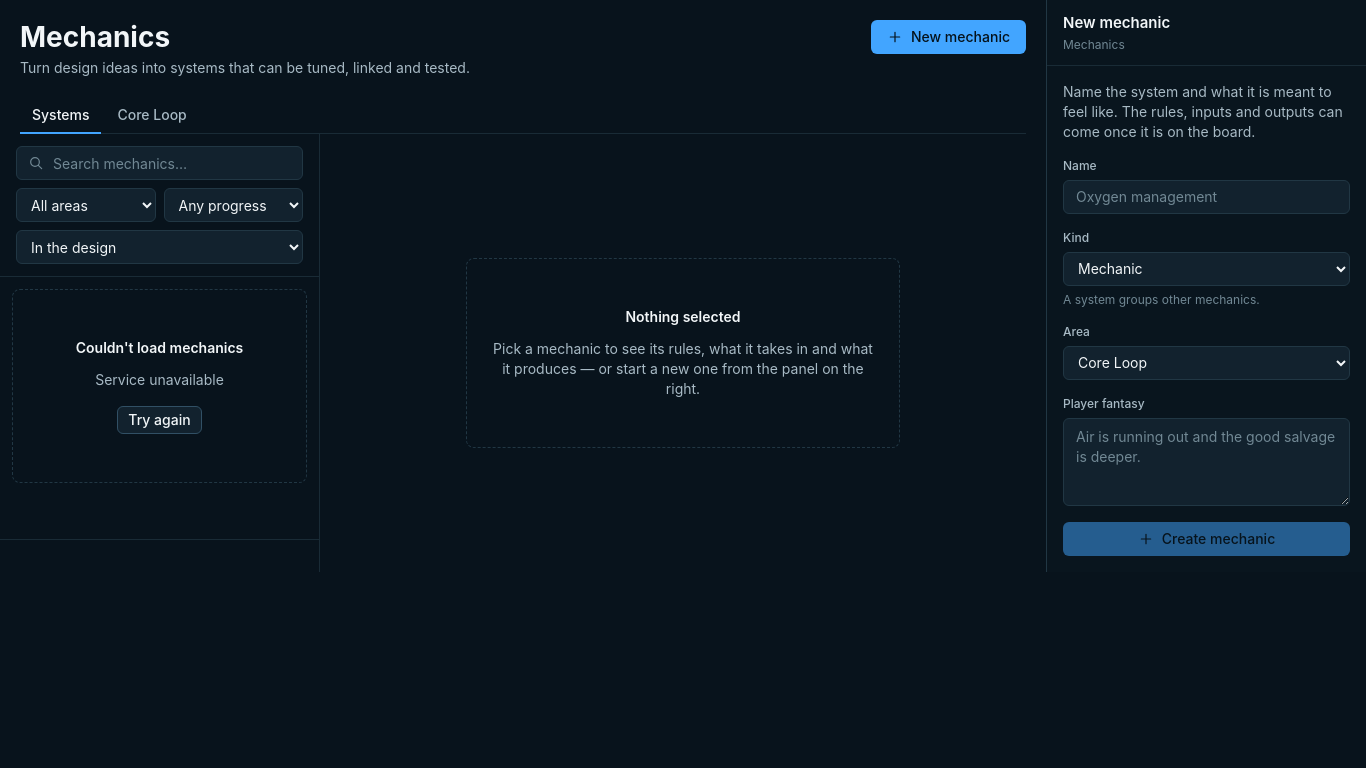
Test: Mechanics workspace › says what went wrong and offers a retry when the listing fails
Expected: the text "Couldn't load mechanics" is shown, [76, 338, 243, 358]
Expected: the text "Service unavailable" is shown, [95, 370, 224, 390]
Step 1. Click the button "Try again" → (159, 420), box [117, 406, 202, 434]
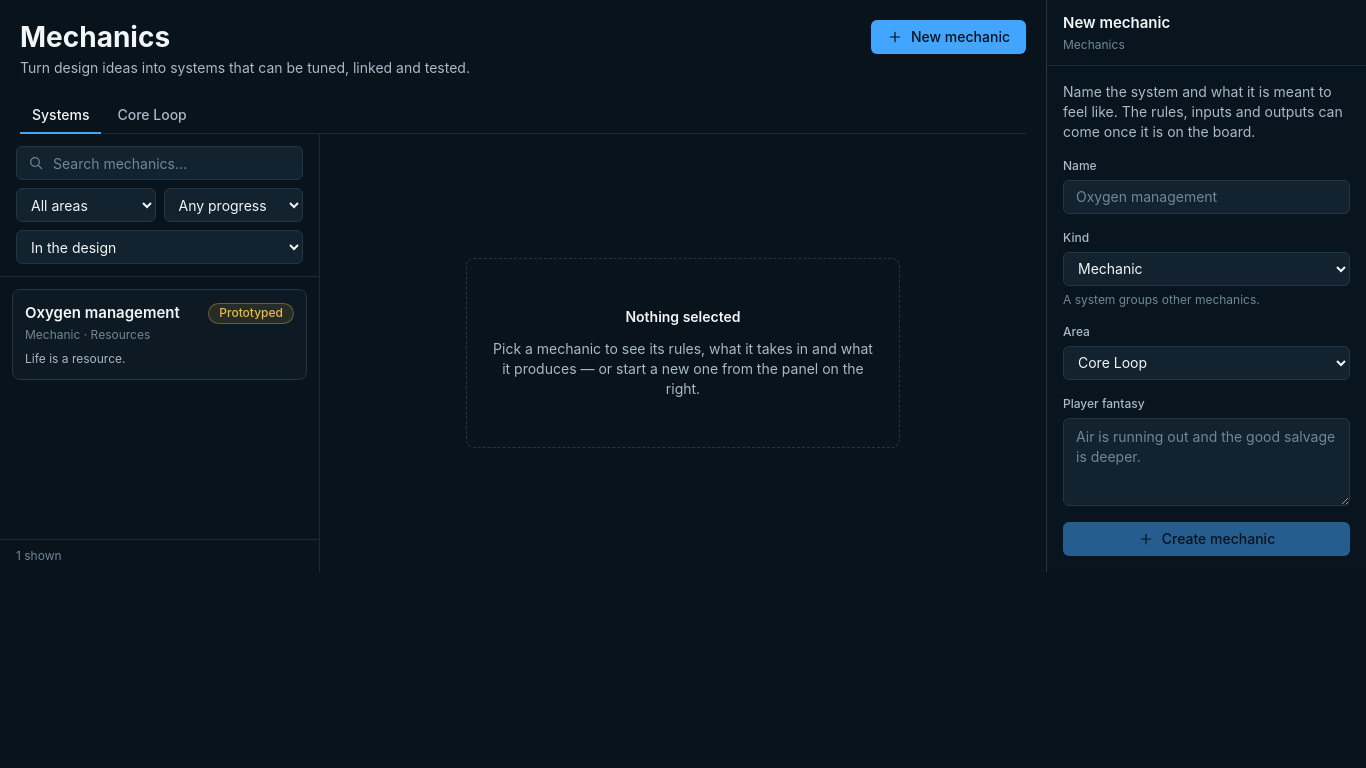
Expected: the heading "Oxygen management" is shown, [25, 302, 180, 324]
